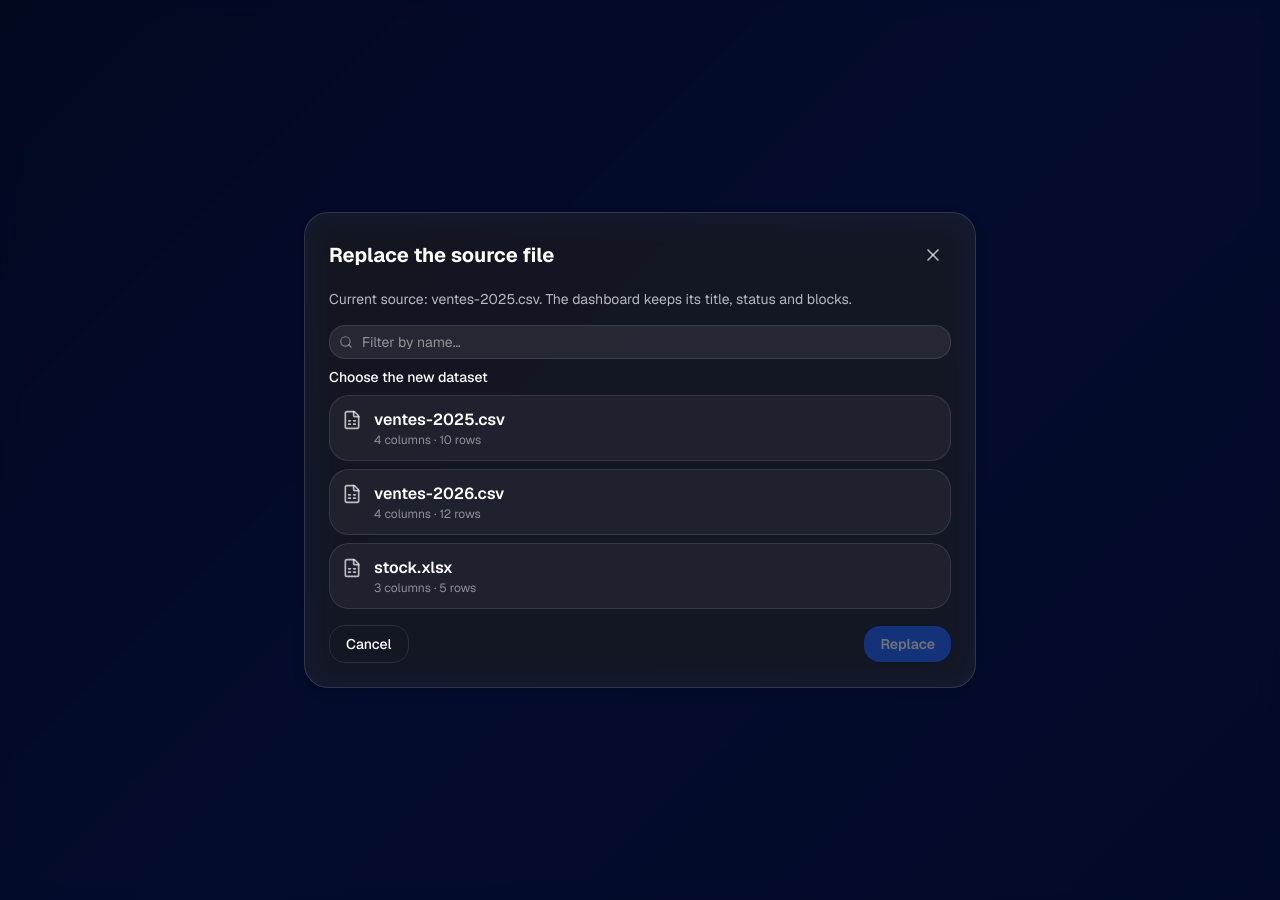
ReplaceSourceModal › prefills columns from the current mapping, then by name, and previews 5 rows
This screenshot has width=1280, height=900.
Click the radio button labelled "ventes-2026.csv 4 columns · 12 rows".
click(439, 494)  # box [329,469,951,535]
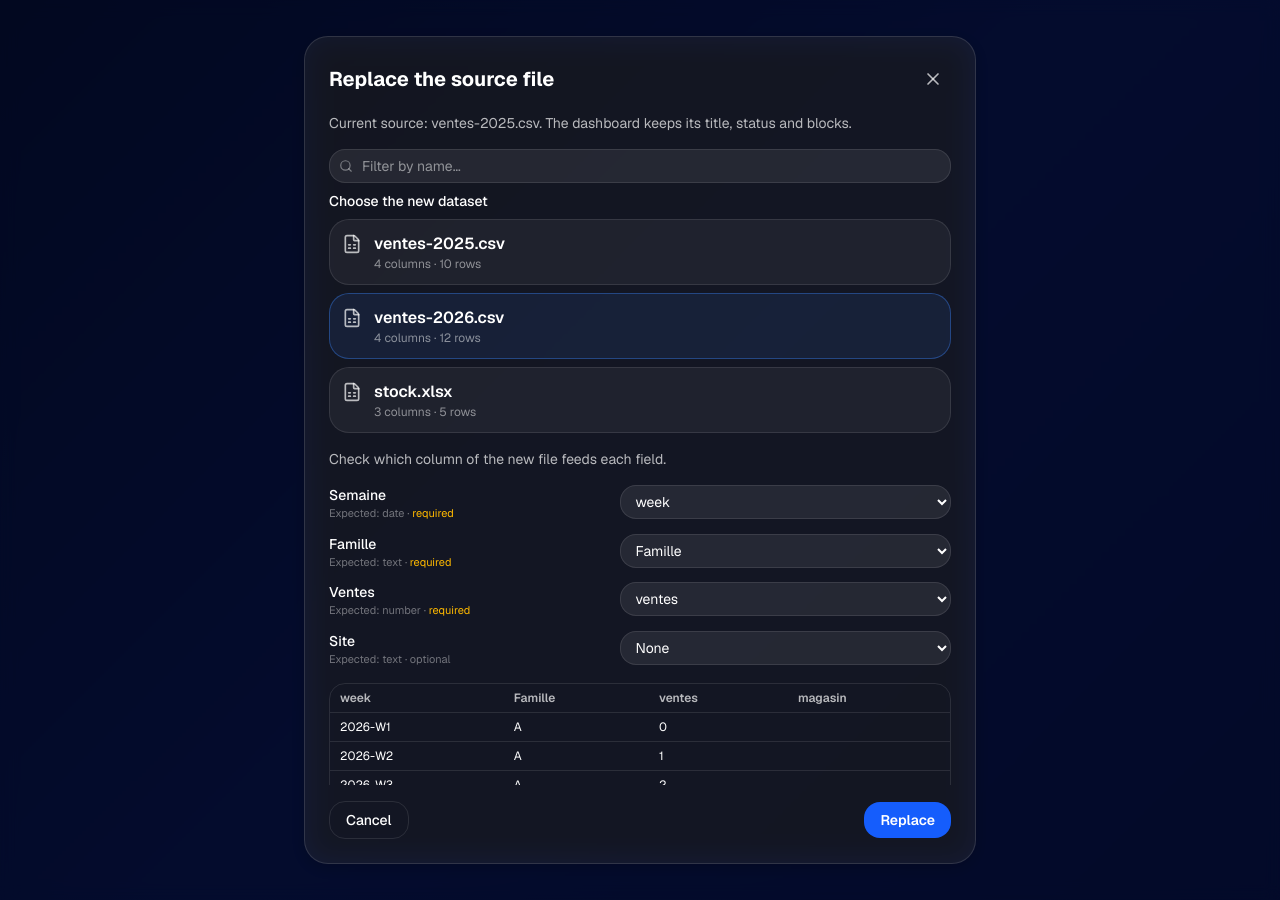
Expected: the dropdown labelled "Semaine" shows "week", [620,485,951,519]
Expected: the dropdown labelled "Famille" shows "Famille", [620,534,951,568]
Expected: the dropdown labelled "Ventes" shows "ventes", [620,582,951,616]
